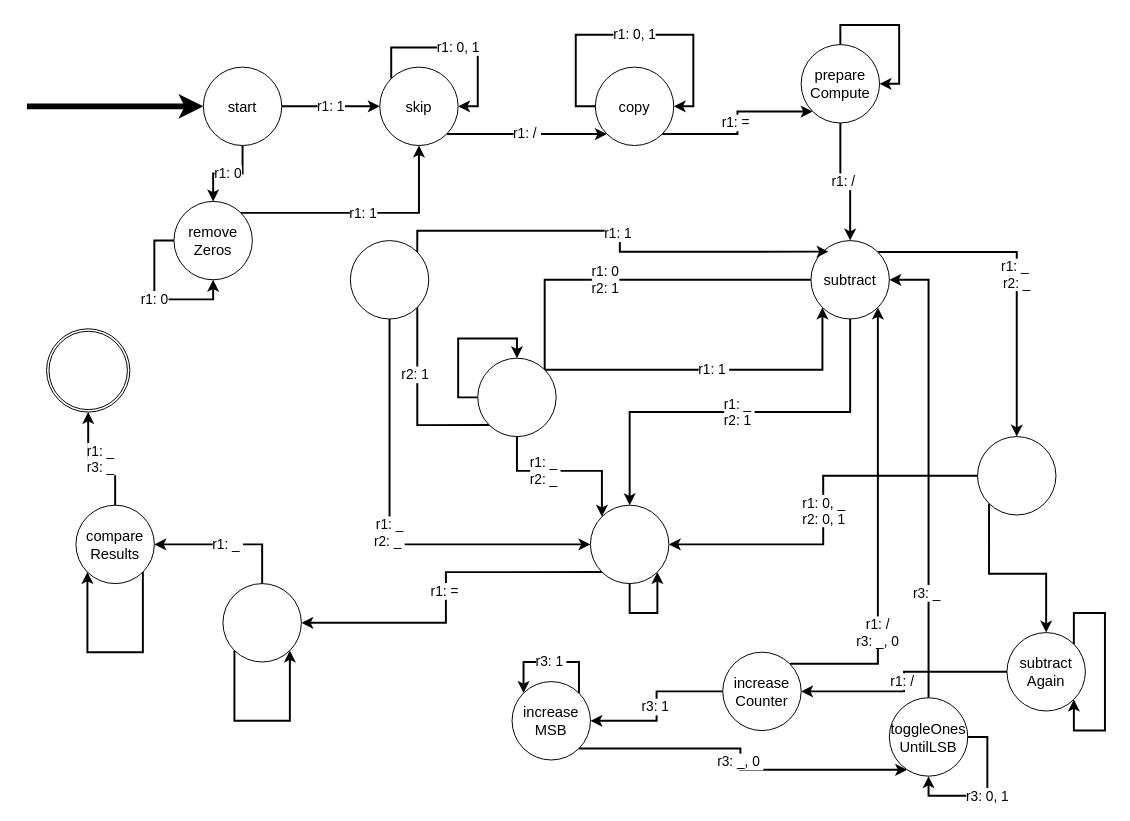
The diagram is 1130 pixels wide and 821 high, and some of its shapes have lost their labels. The box of each missing label's shape, as (x1, y1, x2, y2) in pixels:
accept: (48, 330, 127, 410)
borrow: (477, 357, 556, 437)
check Result: (589, 504, 669, 584)
checkMSB: (977, 436, 1056, 515)
goLSB: (222, 583, 301, 662)
take: (349, 240, 429, 319)
